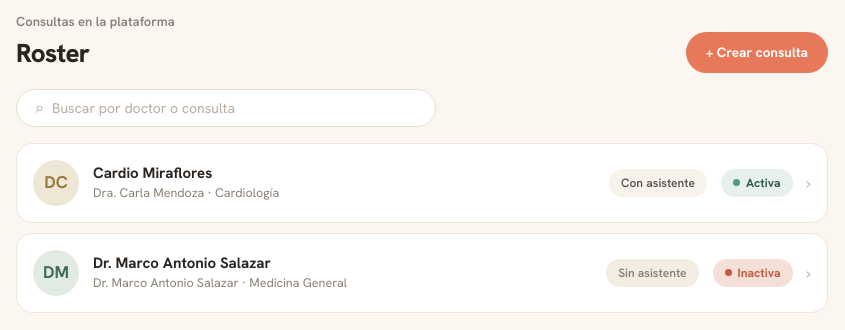
Test case: RosterList › filters live by doctor or practice name as the user types
Type "salazar" into the field with placeholder "Buscar por doctor o consulta" at coordinates (240, 108), box [52,98,429,118]
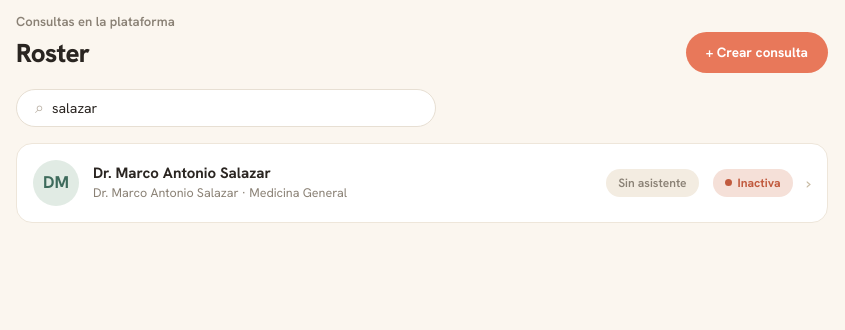
Expected: the text "Dr. Marco Antonio Salazar" is shown, [93,163,271,183]
Expected: the link "Cardio Miraflores" is gone
